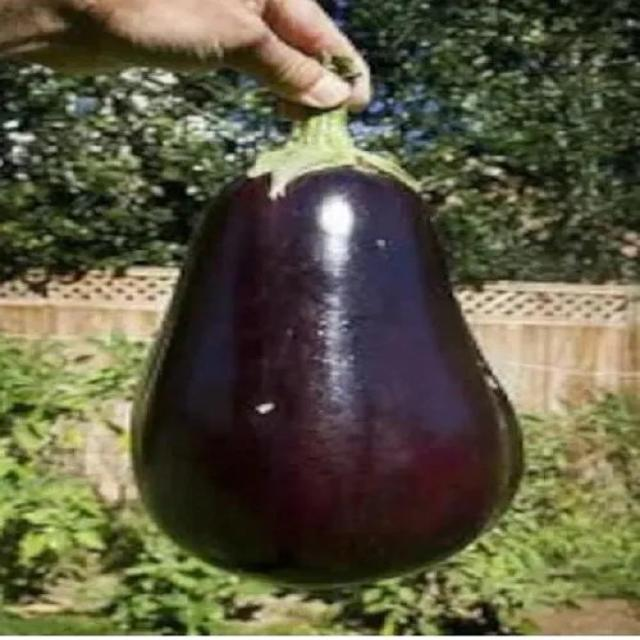eggplant: (130, 107, 529, 585)
